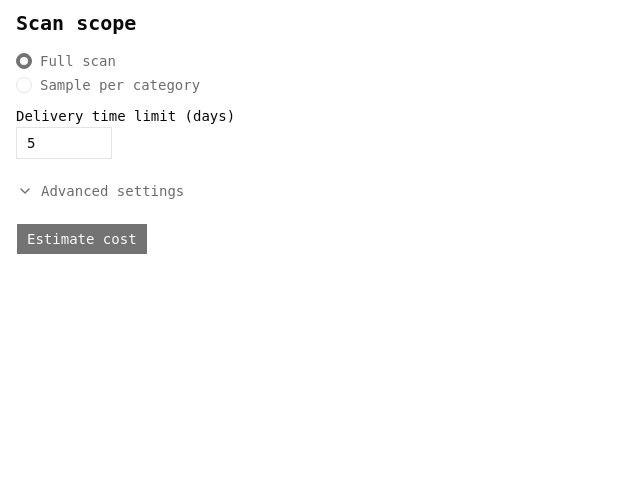
Test: ScopeEstimateStep › creates a scan with full scope by default and shows the estimate
This screenshot has width=641, height=502.
Click the button "Estimate cost": (82, 239) [16, 223, 148, 255]
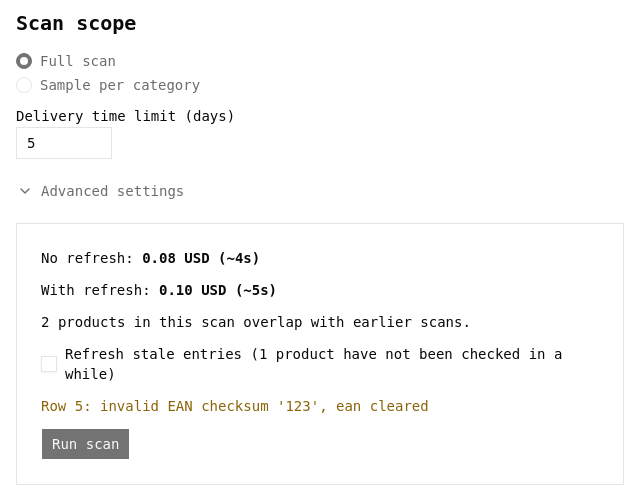
Check: the text "No refresh: 0.08 USD (~4s)" is shown, box [41, 250, 260, 266]
Check: the text "0.08 USD (~4s)" is shown, box [142, 250, 260, 266]
Check: the text "With refresh: 0.10 USD (~5s)" is shown, box [41, 282, 277, 298]
